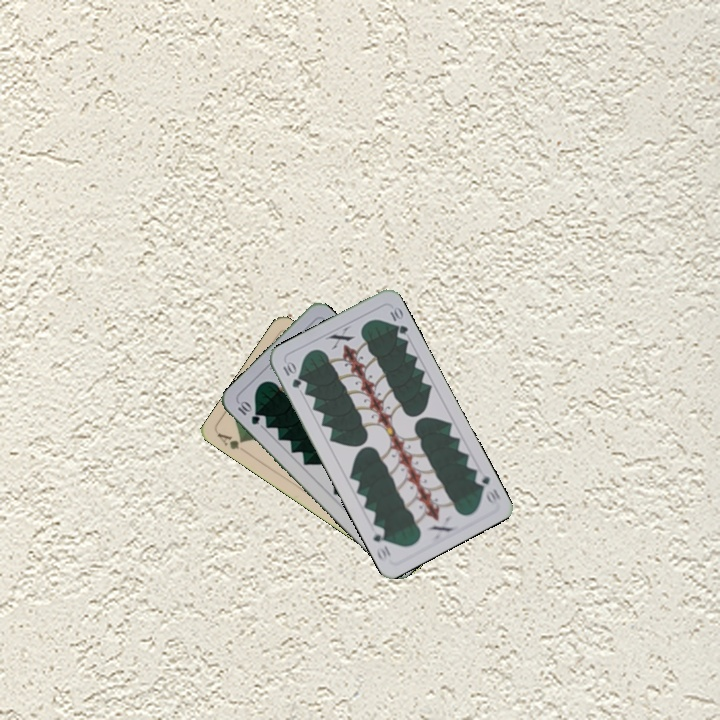G10: (471, 467, 503, 507), (234, 397, 263, 427), (279, 357, 304, 391)
GA: (213, 429, 246, 452)
